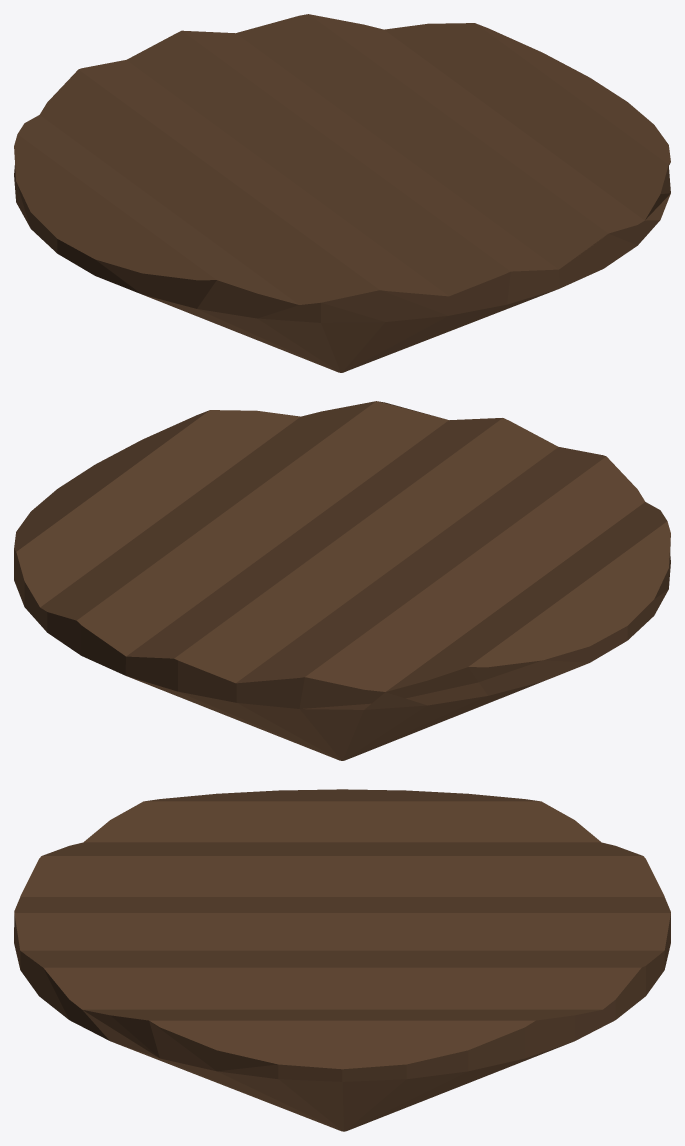
File: suelo.glb
3 views of the same model, one above another, from view 1: azimuth 30°, elevation 25°; view 2: azimuth 150°, elevation 25°; view 3: azimuth 270°, elevation 25° (orthographic).
Parts seen in each view (by area): view 1: Cube; view 2: Cube; view 3: Cube.
Part boxes in pixels (box(x1,y1,x2,y2)): Cube: box(14, 14, 670, 372); Cube: box(14, 401, 670, 760); Cube: box(14, 789, 670, 1131).
Size of the model in its own units: 20 by 7.43 by 20.
